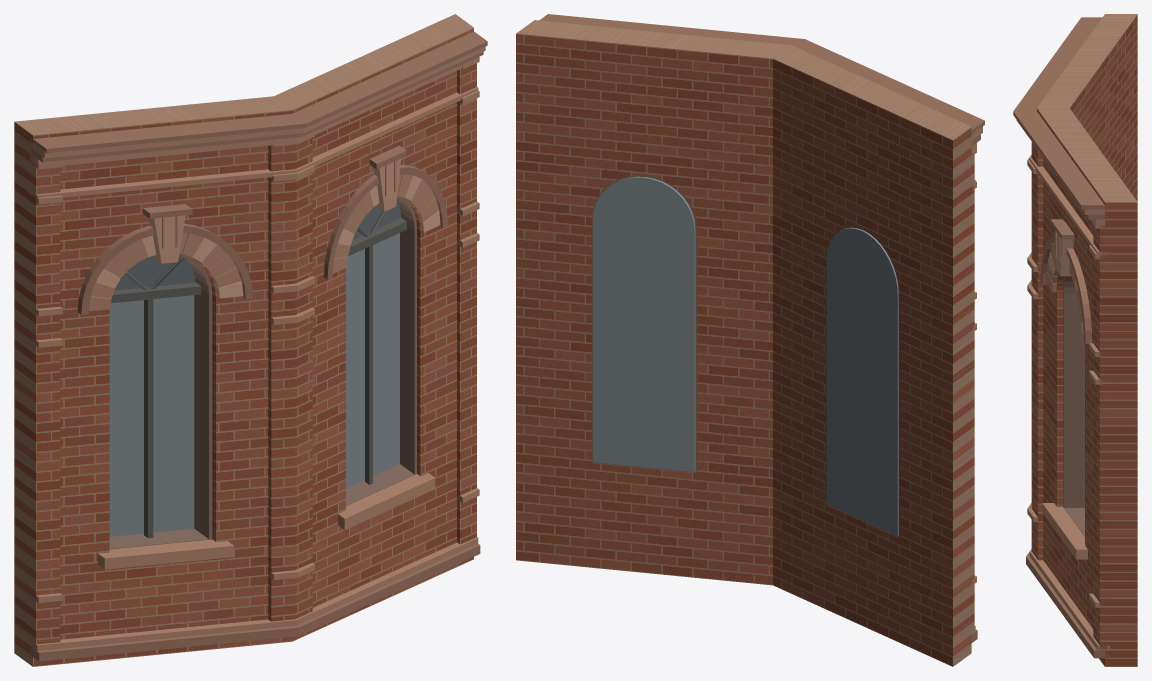
Rendered from changzhi-135-canted-brick-arches-far.glb.
The picture shows the model from 3 angles, left to right: view 1: azimuth 30°, elevation 25°; view 2: azimuth 150°, elevation 25°; view 3: azimuth 270°, elevation 25°; orthographic projection. The views are drawn at different scales.
Visible parts, largest first — view 1: 长治路135号公寓转角砖券窗与楔形券心石; view 2: 长治路135号公寓转角砖券窗与楔形券心石; view 3: 长治路135号公寓转角砖券窗与楔形券心石.
Boxes of the visible parts, <box> form: 长治路135号公寓转角砖券窗与楔形券心石: <box>14,14,487,666</box>; 长治路135号公寓转角砖券窗与楔形券心石: <box>516,14,984,666</box>; 长治路135号公寓转角砖券窗与楔形券心石: <box>1013,14,1137,666</box>.
Bounding box in the file's own units: 3.67 × 4.23 × 1.03.
Materials: 9 (1 with a texture image).
